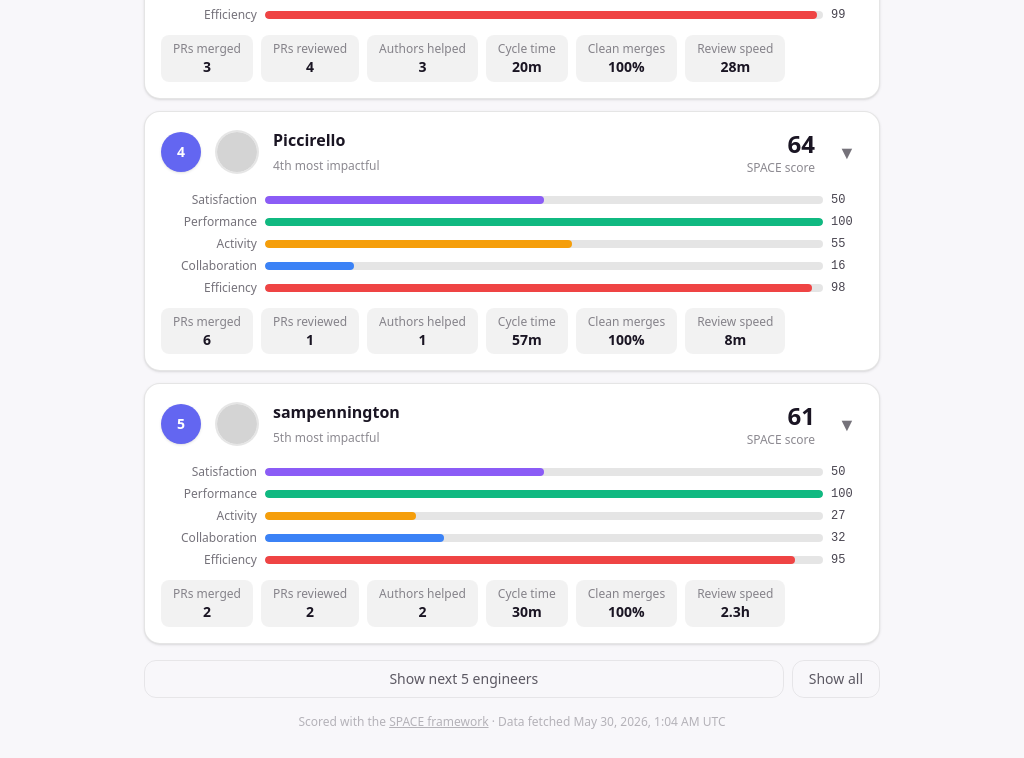
Test: App – engineer list › pagination buttons disappear once all engineers are shown
(page scrolled)
Click the button "Show all".
click(836, 678)  # box [792,660,880,698]
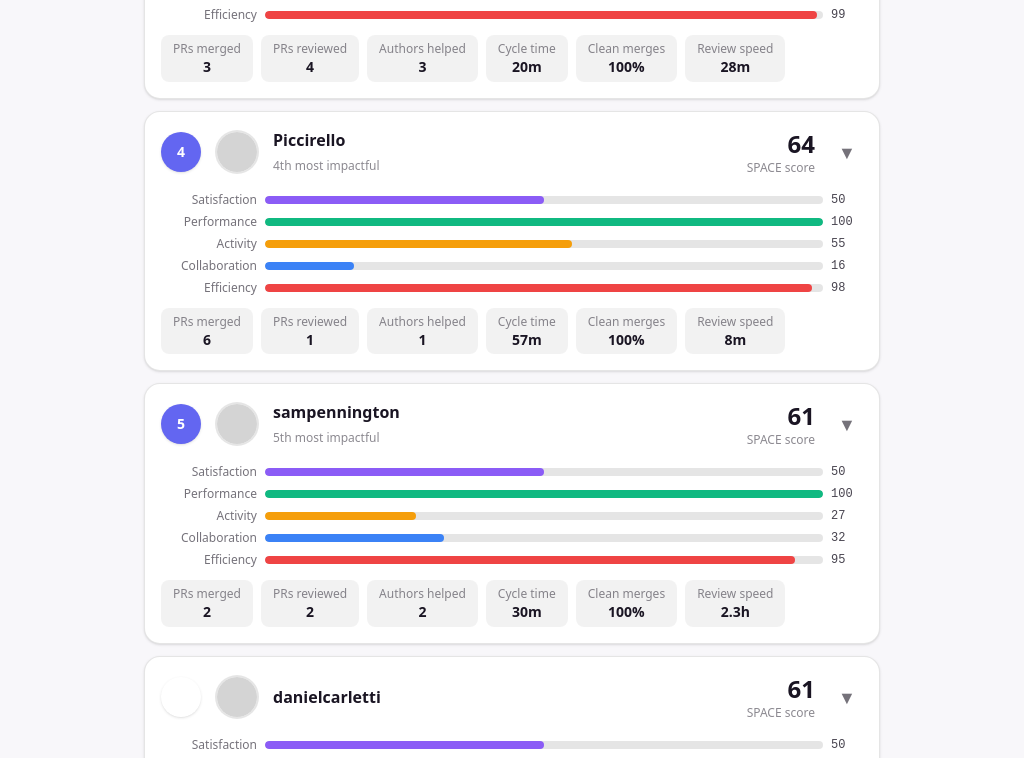
Expected: the button "Show next" is gone
Expected: the button "Show all" is gone
